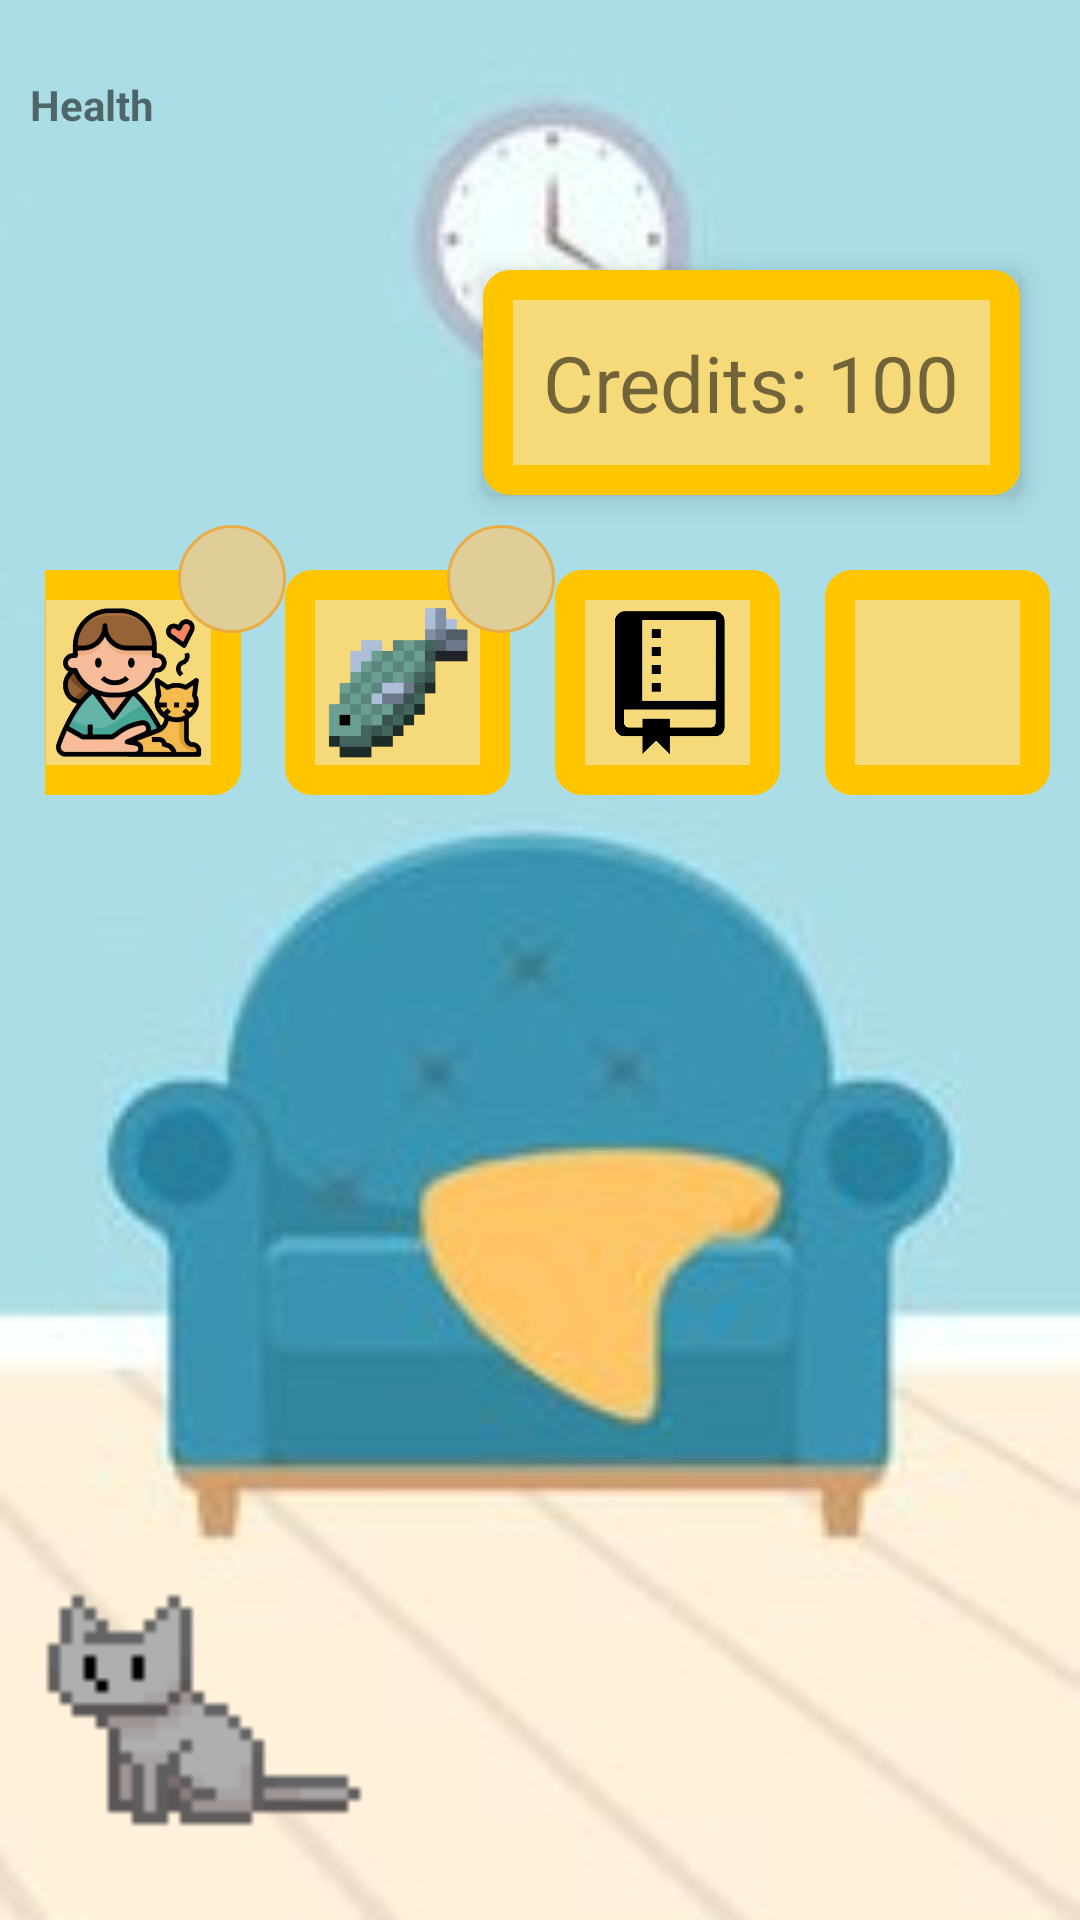

Icon bounding boxes for this 1080×1920 phone screenshot, format rect(x1, y1, x2, y2):
cat wagtail: rect(46, 1593, 362, 1826)
fish: rect(285, 570, 510, 795)
repo: rect(555, 570, 780, 795)
